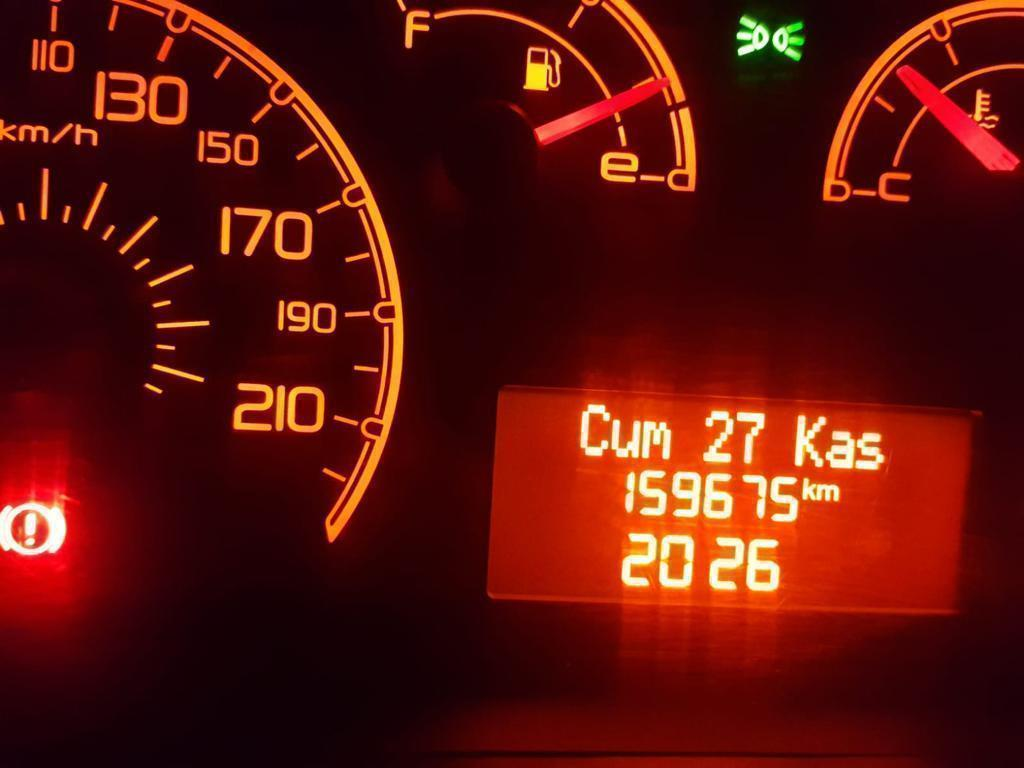0: (658, 534, 695, 589)
1: (623, 470, 636, 513)
2: (620, 531, 657, 588), (707, 536, 745, 591), (702, 410, 732, 464)
5: (637, 469, 667, 516), (770, 476, 799, 522)
6: (745, 537, 781, 592), (702, 471, 734, 519)
7: (735, 410, 766, 464), (740, 473, 768, 519)
9: (670, 470, 700, 518)
X: (793, 414, 826, 468), (578, 403, 610, 457), (640, 420, 671, 460), (824, 430, 855, 469), (854, 431, 885, 470), (610, 419, 640, 459), (815, 483, 839, 503), (801, 477, 817, 501)
odometer: (482, 381, 986, 621)
